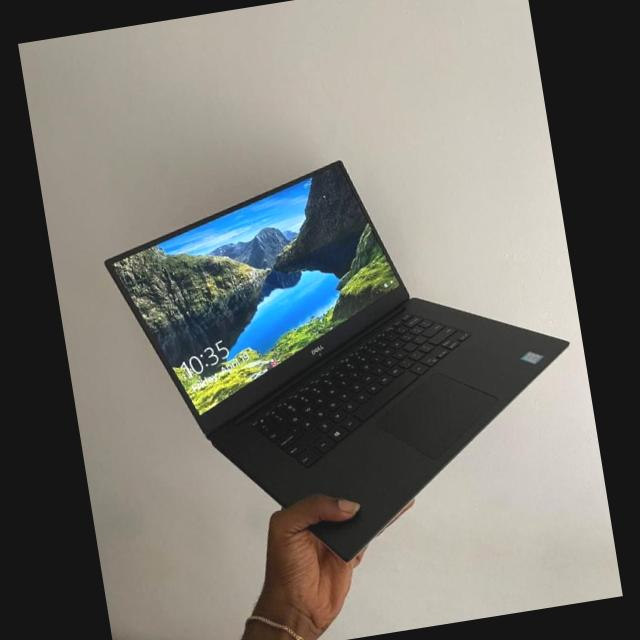laptop: (90, 120, 590, 587)
